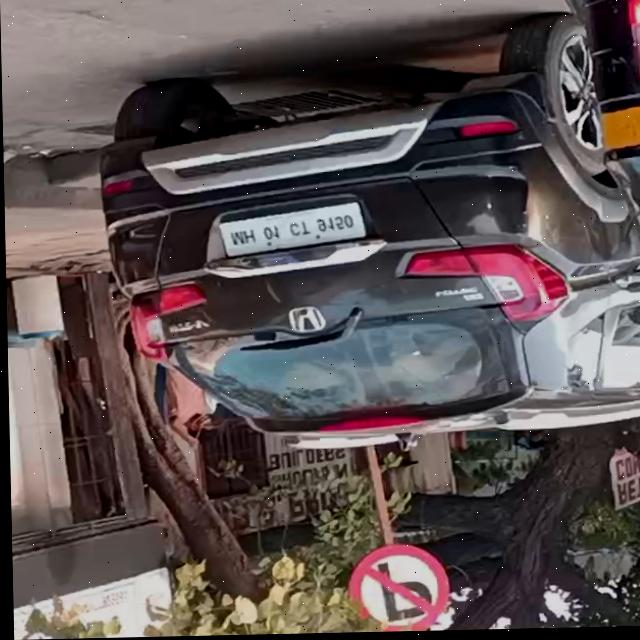plate: (218, 203, 365, 257)
